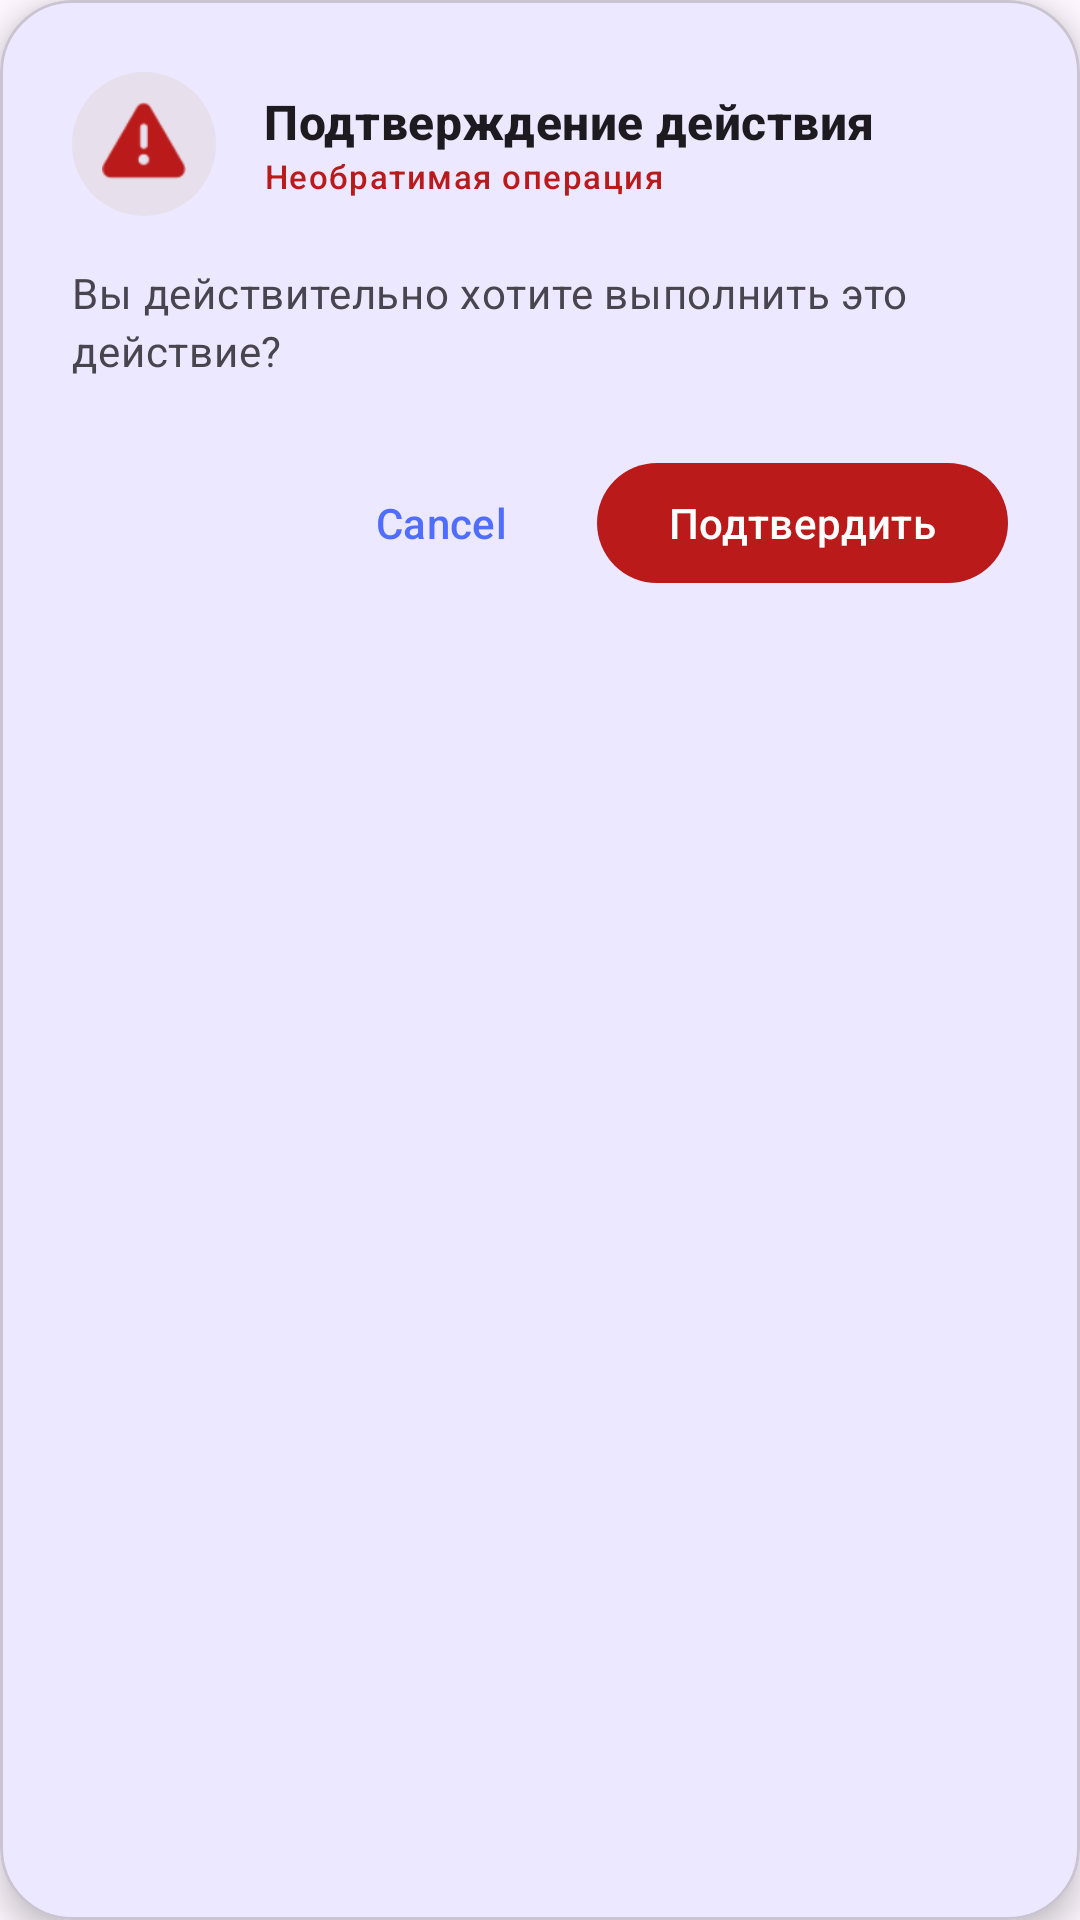

Point at icon controls on the screen. Image size 1080x1920, points as [x,y].
Warning Icon: [144,140]
